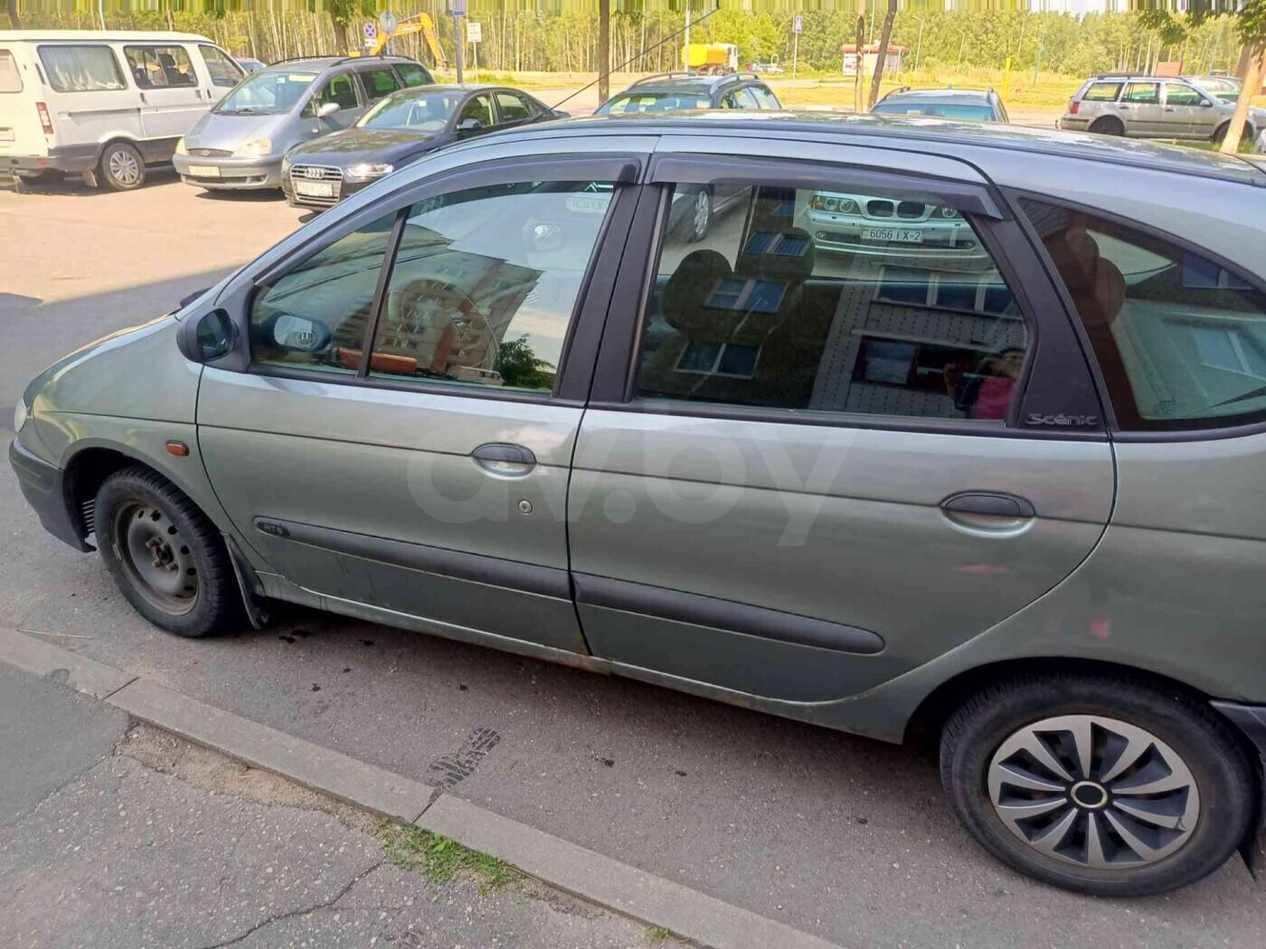Megane_1995-1999: (3, 111, 1266, 909)
